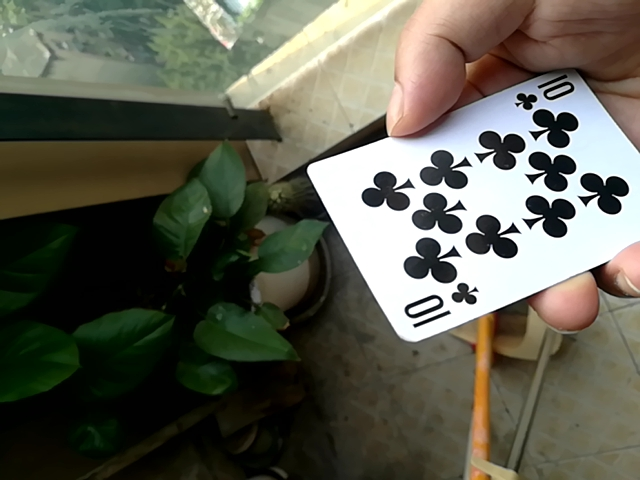mh 10: (299, 75, 640, 342)
